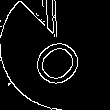O_NE: (21, 22, 89, 88)
